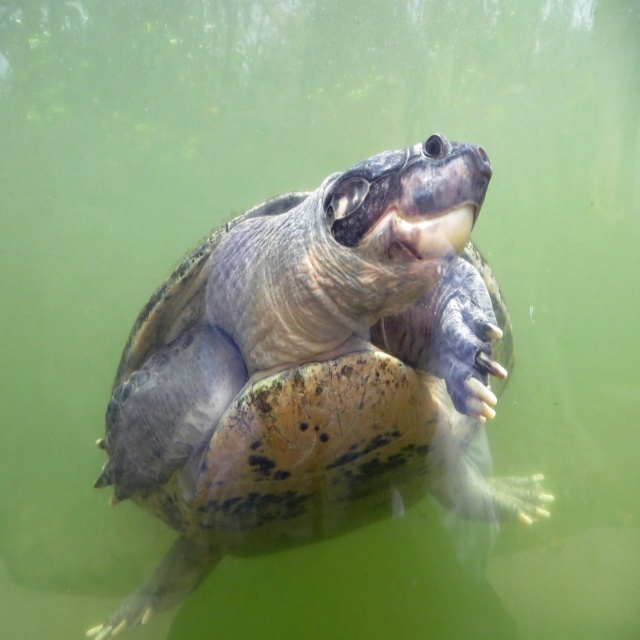Tortoise: (87, 133, 554, 640)
